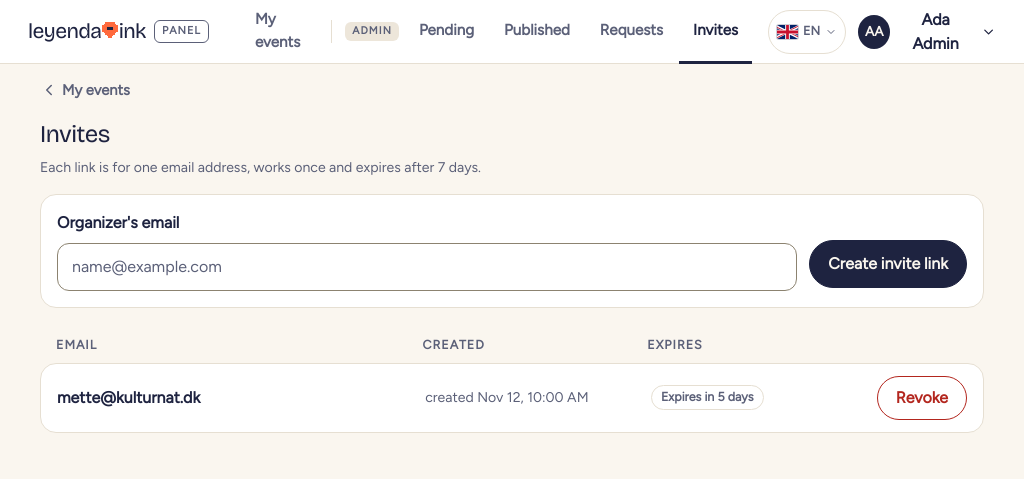
Scenario: admin invites › maps the 409 email_already_registered to a fixed message
Type "ana@havnelobet.dk" into the field labelled "Organizer's email".
click(427, 267); type("ana@havnelobet.dk")  # box [57,243,797,291]
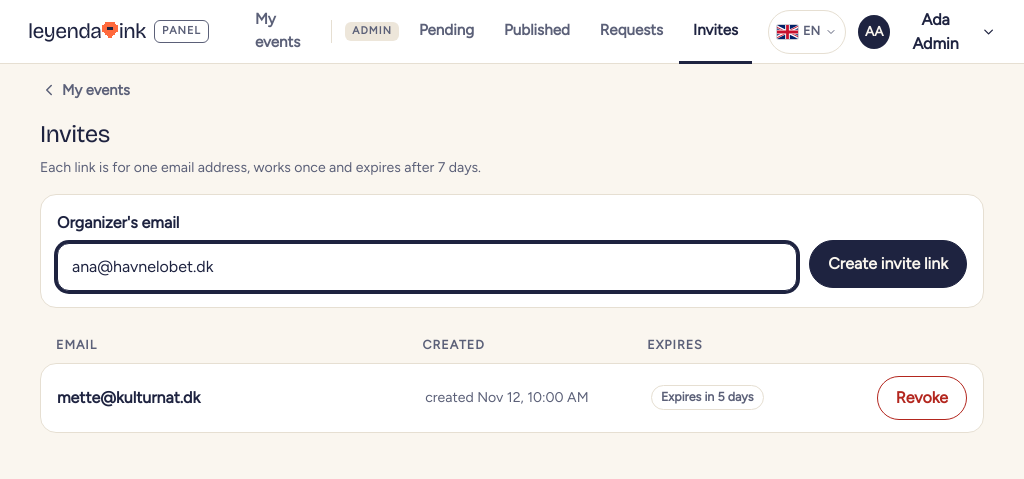
Click the button "Create invite link".
click(888, 264)  # box [809,240,967,288]
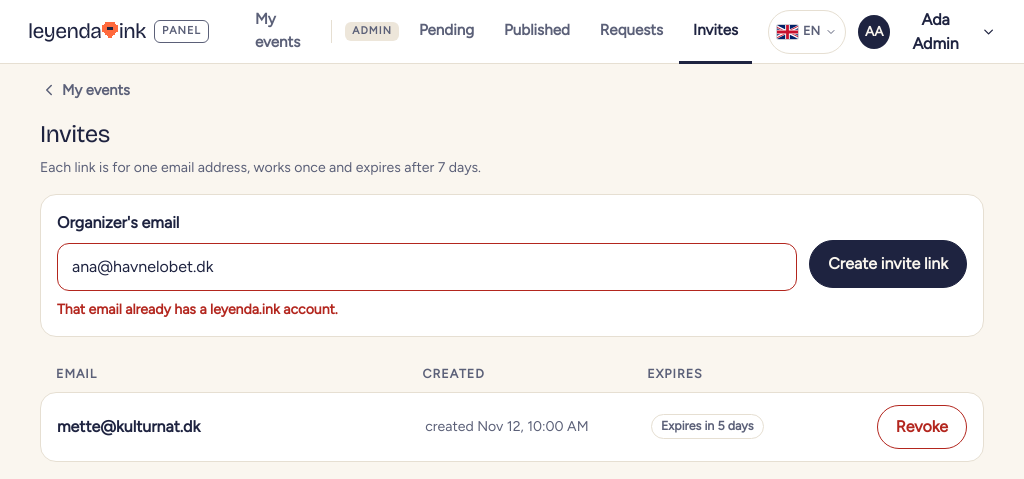
Expected: the text "That email already has a leyenda.ink account." is shown, [57,301,338,318]
